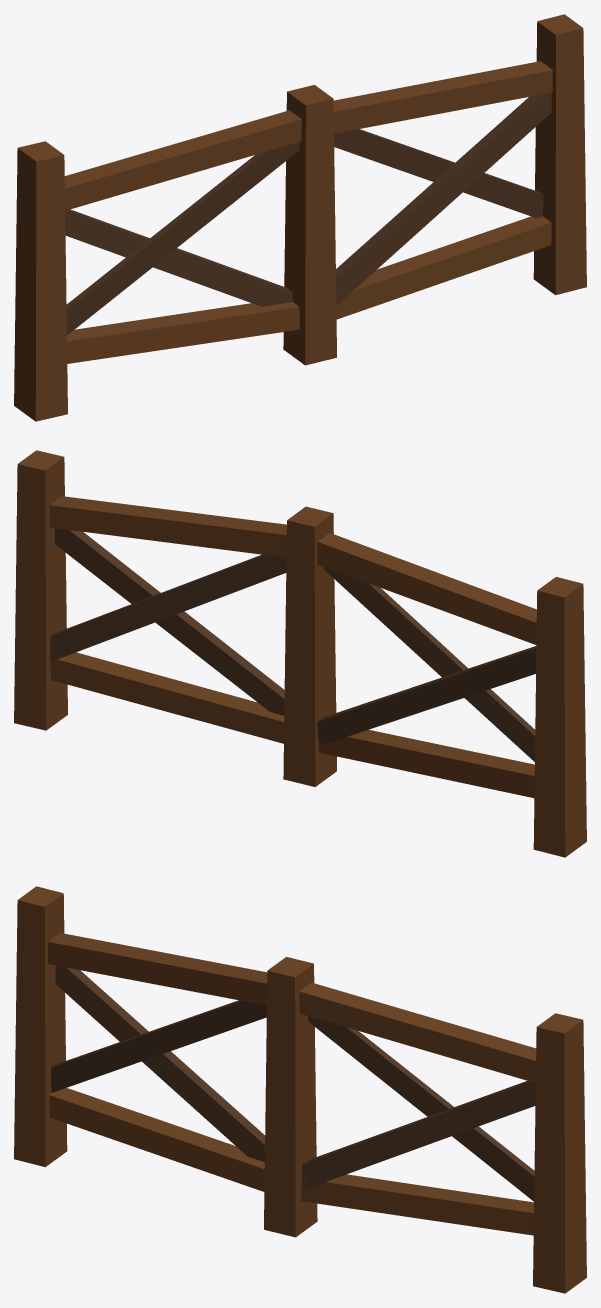
Rendered from fencefancy.dae.
The picture shows the model from 3 angles, top to bottom: view 1: azimuth 30°, elevation 25°; view 2: azimuth 150°, elevation 25°; view 3: azimuth 330°, elevation 25°; orthographic projection.
Visible parts, largest first — view 1: Barrier; view 2: Barrier; view 3: Barrier.
Boxes of the visible parts, left/top/right/bottom form: Barrier: left=14, top=14, right=586, bottom=421; Barrier: left=14, top=450, right=586, bottom=857; Barrier: left=14, top=886, right=586, bottom=1293.
Bounding box in the file's own units: 2.12 × 0.2105 × 0.9515.
